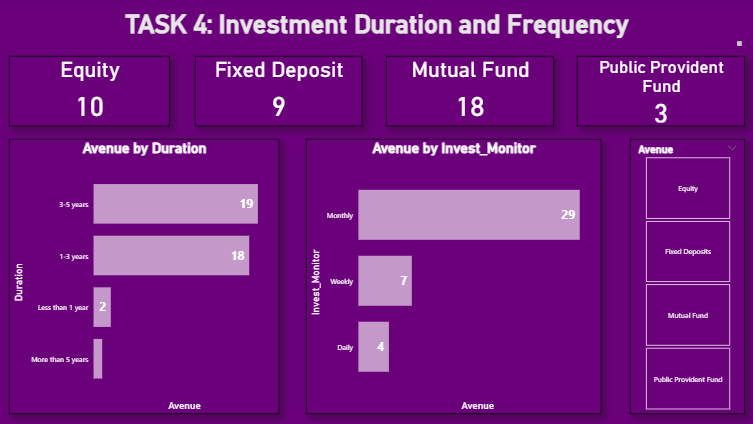

The dashboard page shown, as its layout file describes it:
{"tool":"powerbi","page":{"name":"Task 4","canvas":[1280,720],"ordinal":3},"visuals":[{"type":"textbox","title":"TASK 4: Investment Duration and Frequency","box":[21.8,18.5,1236.3,67.2],"z":0},{"type":"clusteredBarChart","title":"Avenue by Duration","fields":{"Category":["Data_set 2.Duration"],"Y":["CountNonNull(Data_set 2.Avenue)"]},"box":[21.8,236.9,453.5,461.9],"z":1000},{"type":"clusteredBarChart","title":"Avenue by Invest_Monitor","fields":{"Y":["CountNonNull(Data_set 2.Avenue)"],"Category":["Data_set 2.Invest_Monitor"]},"box":[520.7,236.9,495.5,461.9],"z":2000},{"type":"slicer","fields":{"Values":["Data_set 2.Avenue"]},"box":[1065,236.9,193.2,461.9],"z":3000},{"type":"card","title":"Equity","fields":{"Values":["Data_set 2.Equity"]},"box":[21.8,97.4,270.4,117.6],"z":4000},{"type":"card","title":"Fixed Deposit","fields":{"Values":["Data_set 2.Fixed Deposits"]},"box":[334.3,97.4,280.5,117.6],"z":5000},{"type":"card","title":"Public Provident Fund","fields":{"Values":["Data_set 2.Public Provident Fund"]},"box":[976,97.4,282.2,117.6],"z":6000},{"type":"card","title":"Mutual Fund","fields":{"Values":["Data_set 2.Mutual Fund"]},"box":[655.1,97.4,282.2,117.6],"z":7000}]}

Visuals, with their boxes in screenshot pixels (x1, y1, x2, y2), scaled from the page's 1280x720 canvas onto the 753x424 screenshot:
"TASK 4: Investment Duration and Frequency" textbox: Rect(13, 11, 740, 50)
"Avenue by Duration" clusteredBarChart: Rect(13, 140, 280, 412)
"Avenue by Invest_Monitor" clusteredBarChart: Rect(306, 140, 598, 412)
slicer - Data_set 2.Avenue: Rect(627, 140, 740, 412)
"Equity" card: Rect(13, 57, 172, 127)
"Fixed Deposit" card: Rect(197, 57, 362, 127)
"Public Provident Fund" card: Rect(574, 57, 740, 127)
"Mutual Fund" card: Rect(385, 57, 551, 127)
